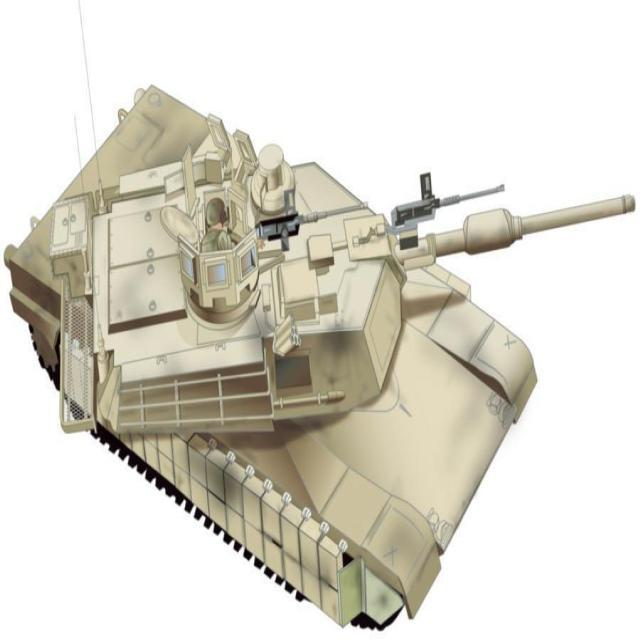MIL_MBT: (8, 50, 581, 614)
